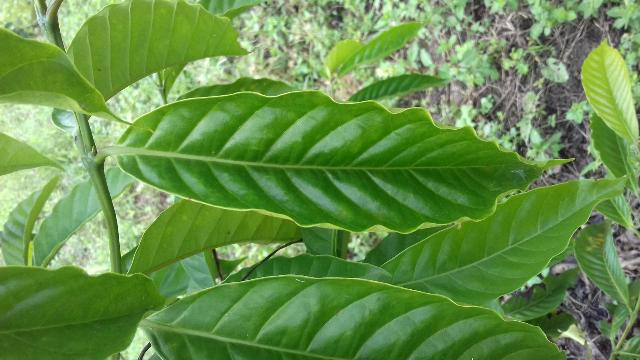healthy: (115, 88, 572, 232)
